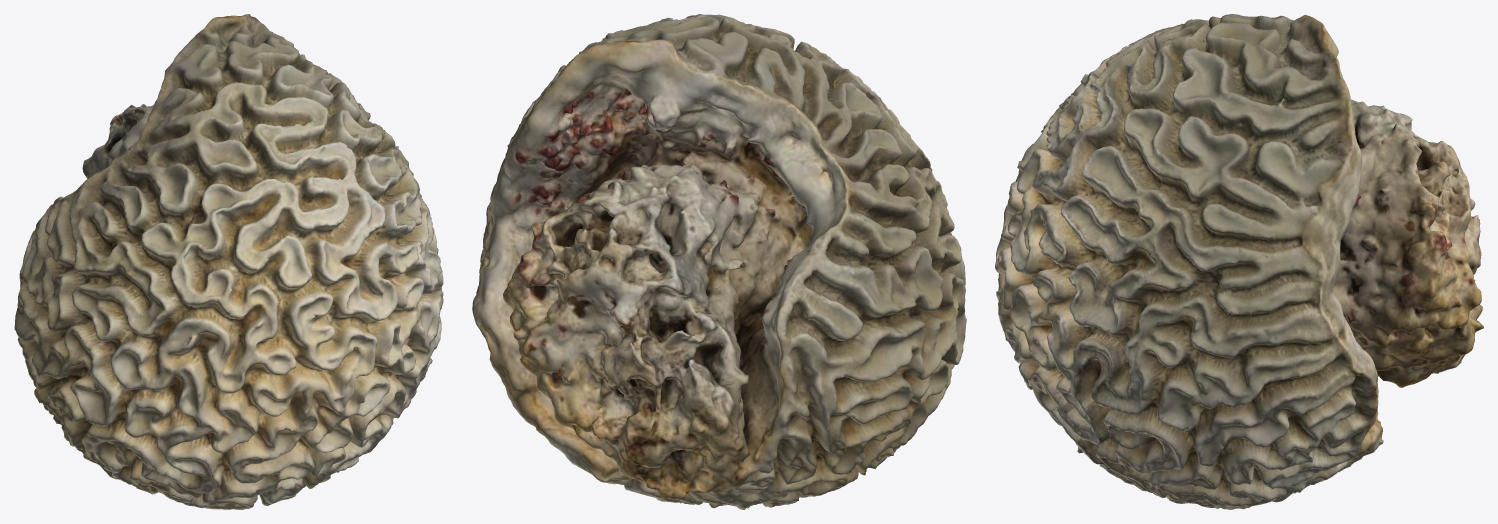
3 renders of one model, left to right at view 1: azimuth 30°, elevation 25°; view 2: azimuth 150°, elevation 25°; view 3: azimuth 270°, elevation 25°, orthographic. The views are drawn at different scales.
Visible parts, largest first — view 1: tamanho; view 2: tamanho; view 3: tamanho.
Part boxes in pixels (x1,y1,x2,y2): tamanho: (14, 14, 443, 509); tamanho: (472, 14, 966, 509); tamanho: (995, 14, 1483, 509).
Bounding box in the file's own units: 4561 × 4915 × 4577.
1 material, 1 textured.
